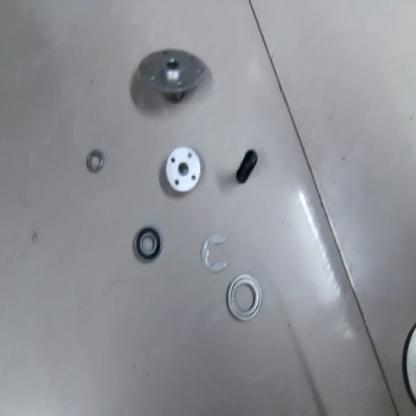FOD: (134, 49, 211, 104), (224, 272, 265, 322), (164, 145, 202, 196), (131, 221, 164, 266), (197, 234, 230, 276), (232, 146, 259, 188), (84, 148, 104, 179)
